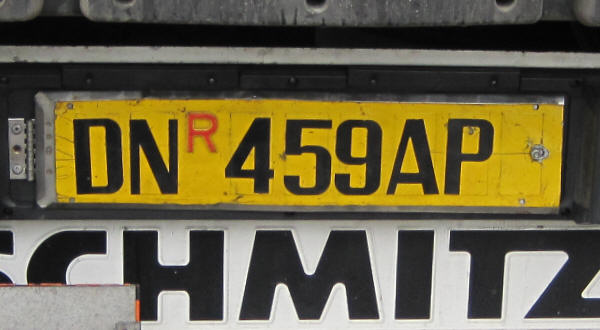license_plate: (34, 89, 567, 208)
